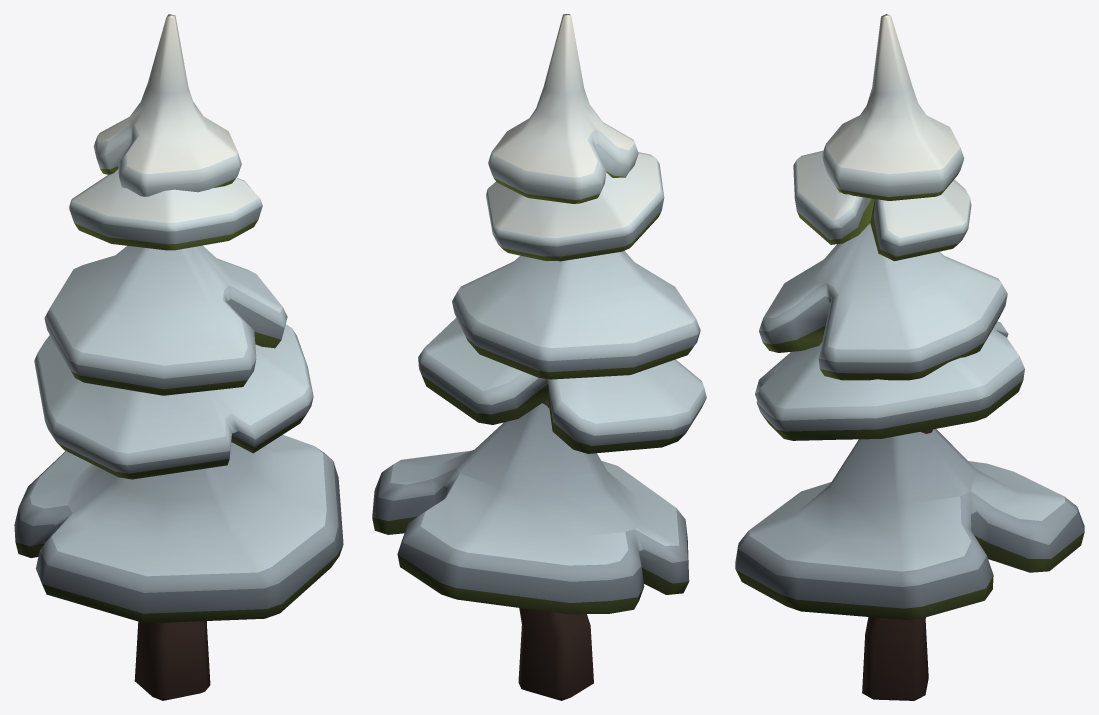
Rendered from pine_tree_col1_04_snow.fbx.
The picture shows the model from 3 angles, left to right: view 1: azimuth 30°, elevation 25°; view 2: azimuth 150°, elevation 25°; view 3: azimuth 270°, elevation 25°; orthographic projection.
Parts seen in each view (by area): view 1: pine_tree_col1_04_snow; view 2: pine_tree_col1_04_snow; view 3: pine_tree_col1_04_snow.
Boxes of the visible parts, x1,y1,x2,y2 form: pine_tree_col1_04_snow: (14, 14, 343, 700); pine_tree_col1_04_snow: (372, 14, 706, 700); pine_tree_col1_04_snow: (735, 14, 1084, 700).
Bounding box in the file's own units: 522 × 1117 × 526.
Materials: 1 (1 with a texture image).
